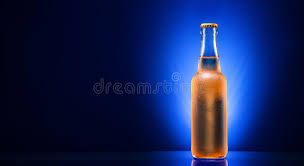beer: (190, 23, 229, 158)
